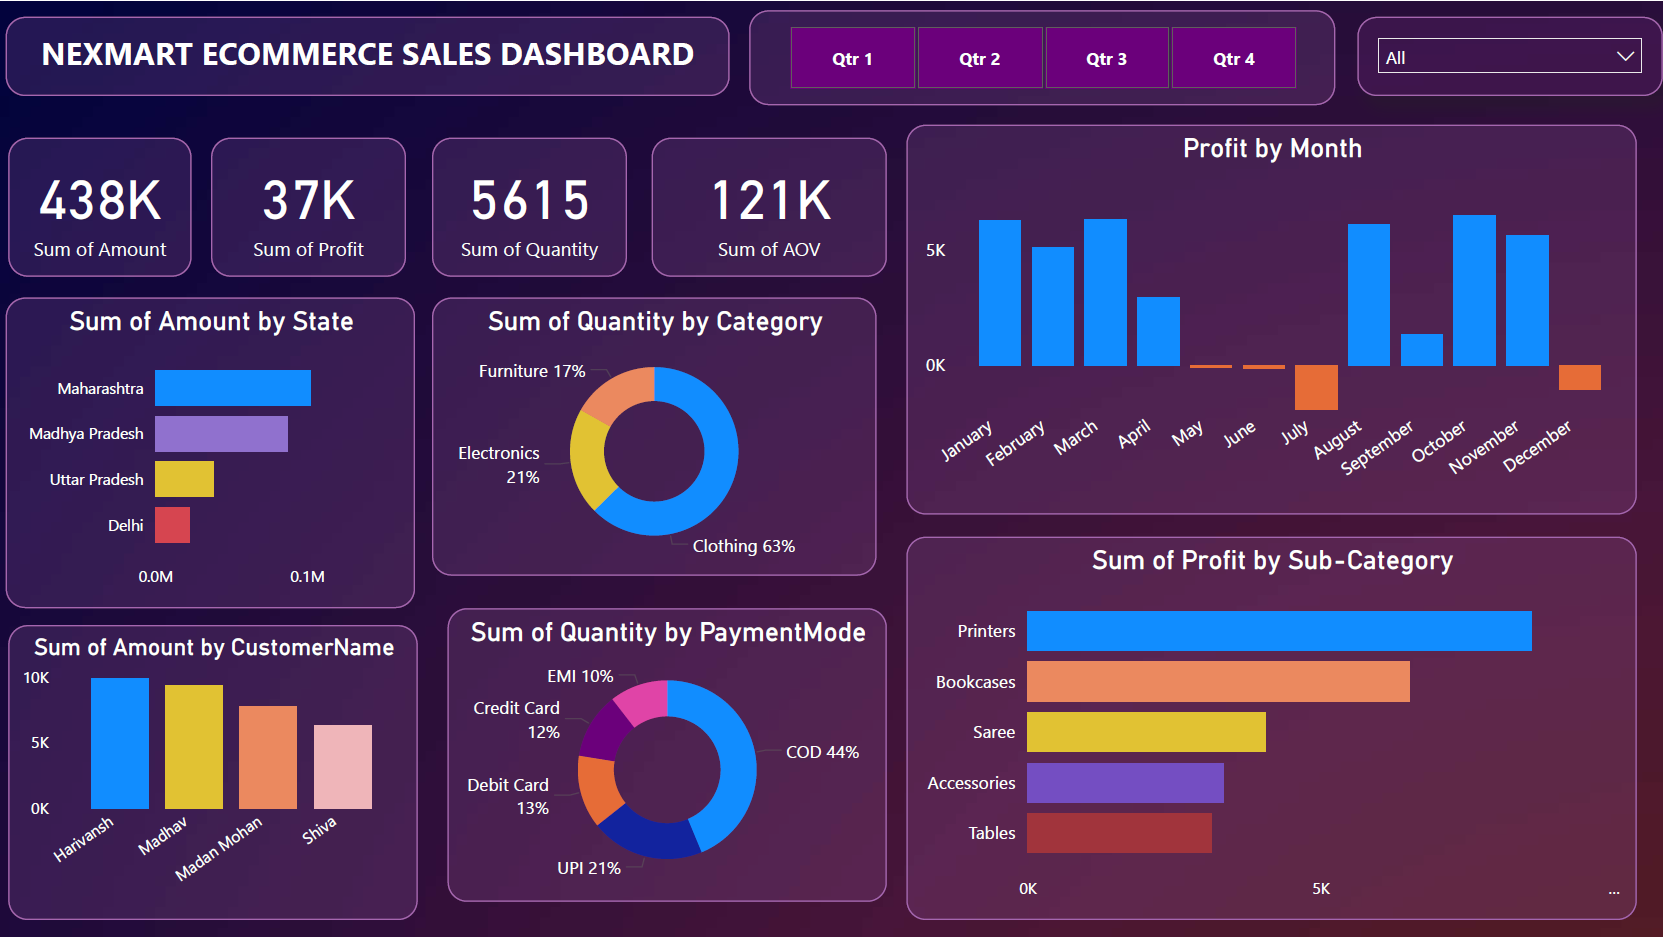

The dashboard page shown, as its layout file describes it:
{"tool":"powerbi","page":{"name":"Page 1","canvas":[1280,720],"ordinal":0},"visuals":[{"type":"columnChart","title":"Profit by Month","fields":{"Y":["Details.Profit"],"Category":["Orders.Order Date.Variation.Date Hierarchy.Month"]},"box":[698.3,95,561.7,300],"z":0},{"type":"barChart","fields":{"Category":["Details.Sub-Category"],"Y":["Details.Profit"]},"box":[698.3,411.7,561.7,295],"z":1000},{"type":"donutChart","fields":{"Category":["Details.Category"],"Y":["Details.Quantity"]},"box":[333.3,228.3,341.7,213.3],"z":2000},{"type":"donutChart","fields":{"Category":["Details.PaymentMode"],"Y":["Details.Quantity"]},"box":[345,466.7,338.3,226.7],"z":3000},{"type":"card","fields":{"Values":["Details.Amount"]},"box":[6.7,105,141.7,106.7],"z":4000},{"type":"card","fields":{"Values":["Details.Profit"]},"box":[163.3,105,150,106.7],"z":5000},{"type":"card","fields":{"Values":["Details.Quantity"]},"box":[333.3,105,150,106.7],"z":6000},{"type":"card","fields":{"Values":["Details.AOV"]},"box":[501.7,105,181.7,106.7],"z":7000},{"type":"barChart","fields":{"Category":["Orders.State"],"Y":["Details.Amount"]},"box":[5,228.3,315,238.3],"z":8000},{"type":"columnChart","fields":{"Category":["Orders.CustomerName"],"Y":["Details.Amount"]},"box":[6.7,480,315,226.7],"z":9000},{"type":"textbox","box":[5,11.7,556.7,61.7],"z":10000},{"type":"slicer","fields":{"Values":["Orders.Order Date.Variation.Date Hierarchy.Quarter"]},"box":[576.7,6.7,451.7,73.3],"z":11000},{"type":"slicer","fields":{"Values":["Orders.State"]},"box":[1045,11.7,235,61.7],"z":12000}]}

Visuals, with their boxes in screenshot pixels (x1, y1, x2, y2), scaled from the page's 1280x720 canvas onto the 1665x938 screenshot:
"Profit by Month" columnChart: left=908, top=124, right=1639, bottom=515
barChart - Details.Sub-Category x Details.Profit: left=908, top=536, right=1639, bottom=921
donutChart - Details.Category x Details.Quantity: left=434, top=297, right=878, bottom=575
donutChart - Details.PaymentMode x Details.Quantity: left=449, top=608, right=889, bottom=903
card - Details.Amount: left=9, top=137, right=193, bottom=276
card - Details.Profit: left=212, top=137, right=408, bottom=276
card - Details.Quantity: left=434, top=137, right=629, bottom=276
card - Details.AOV: left=653, top=137, right=889, bottom=276
barChart - Orders.State x Details.Amount: left=7, top=297, right=416, bottom=608
columnChart - Orders.CustomerName x Details.Amount: left=9, top=625, right=418, bottom=921
textbox: left=7, top=15, right=731, bottom=96
slicer - Orders.Order Date.Variation.Date Hierarchy.Quarter: left=750, top=9, right=1338, bottom=104
slicer - Orders.State: left=1359, top=15, right=1664, bottom=96
